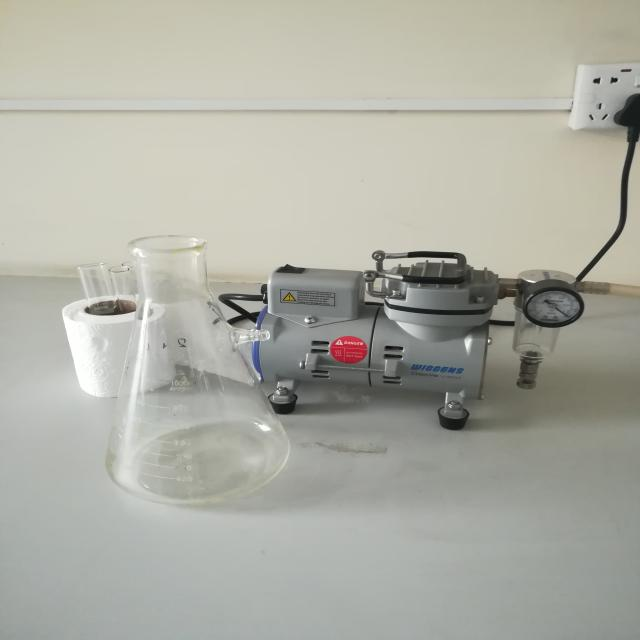Conical_Flask: (82, 221, 341, 537)
